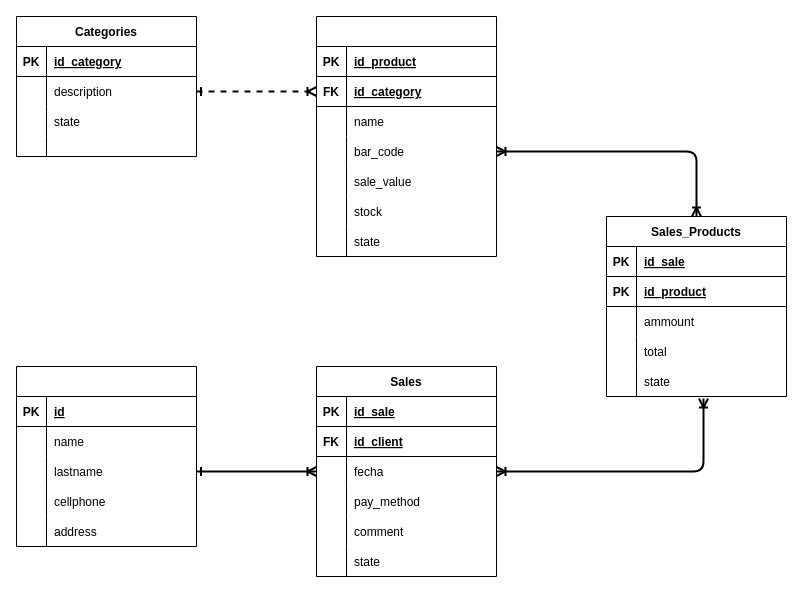
Some shapes in this 803 by 593 pixel diagram are drawn without their labels. The box of each missing label's shape, as (x1, y1, x2, y2) in pixels:
Clients: (16, 366, 196, 546)
Products: (316, 16, 496, 256)
